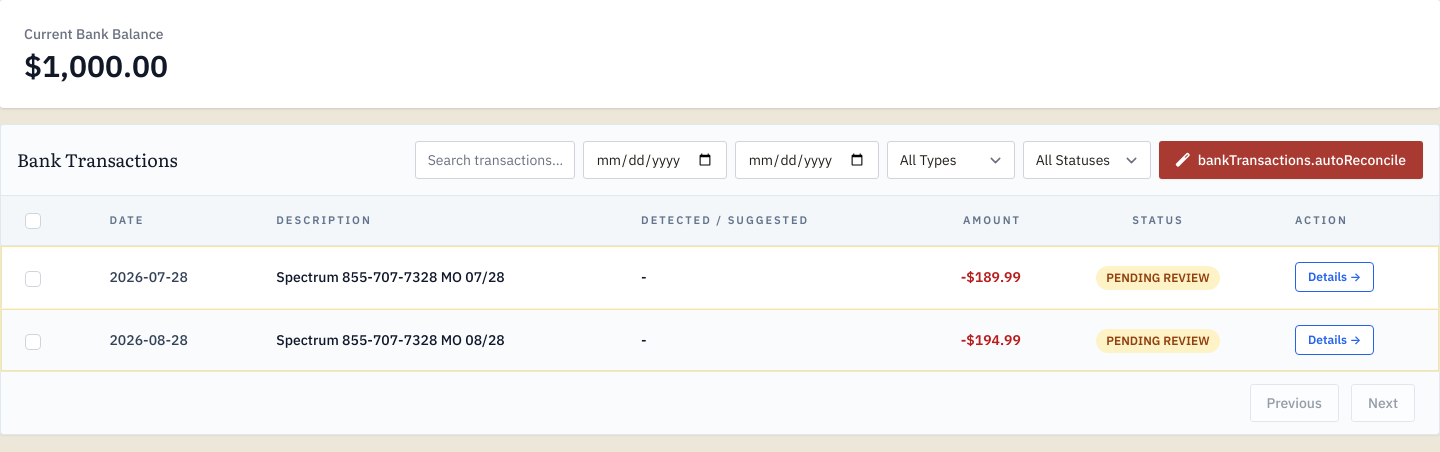
Test case: Bulk expense modal › offers the categorize action for a debit-only selection
Expected: the text "Spectrum 855-707-7328 MO 07/28" is shown, [276,268,505,286]
Click the checkbox next to "2026-07-28" at (33, 279), box [25,271,41,287]
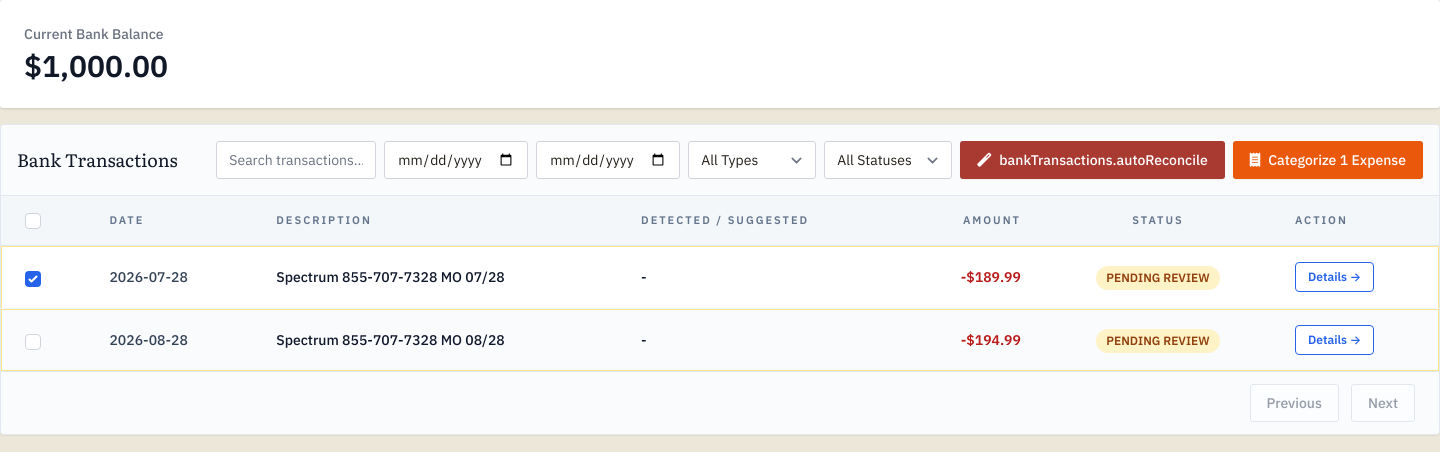
Expected: the button "Categorize 1 Expense" is shown, [1233,141,1423,179]
